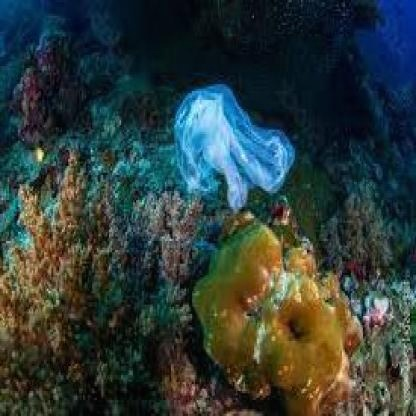pbag: (168, 80, 299, 214)
